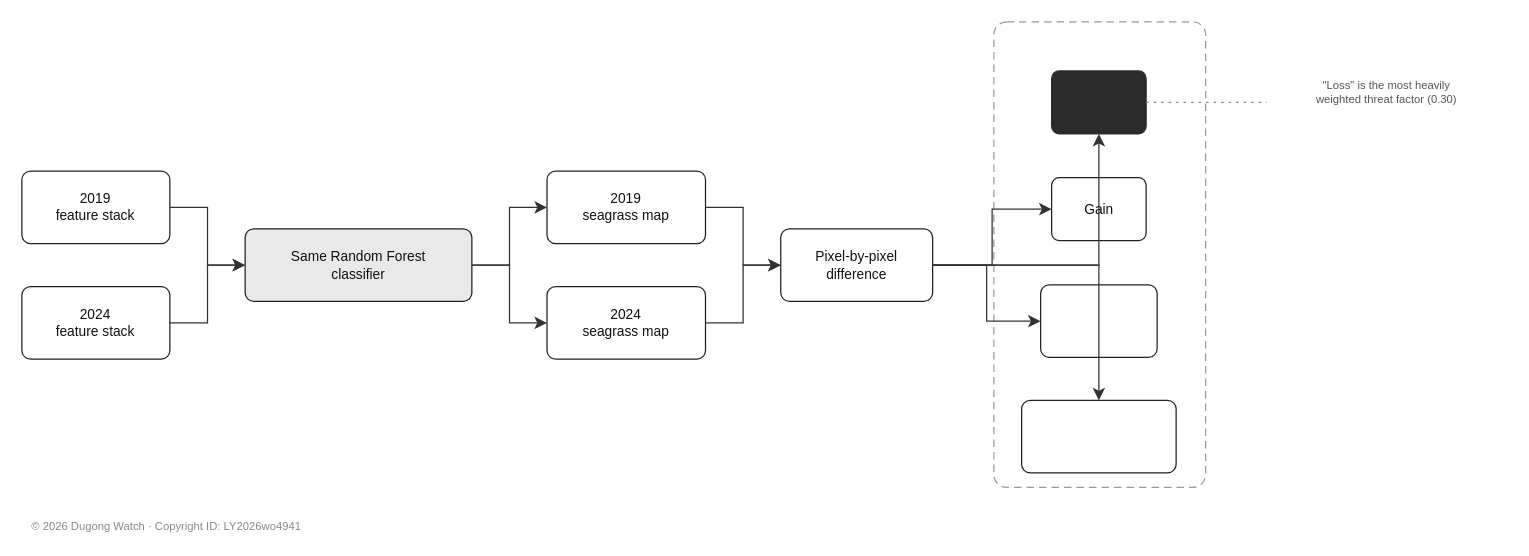
The diagram is 1529 pixels wide and 556 high, and some of its shapes have lost their labels. The shapes that lost their labels are listed below. From the top down, each one's box as (x1, y1, x2, y2) in pixels, then its label:
(1050, 70, 1146, 134): Loss
(993, 21, 1206, 487): CHANGE CLASSES
(1039, 284, 1157, 357): Stable seagrass
(1020, 399, 1176, 473): Stable non-seagrass
